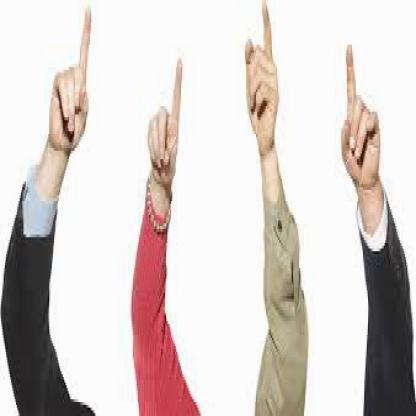Up: (130, 46, 193, 194), (336, 38, 387, 209), (47, 0, 97, 168), (238, 0, 291, 151)
